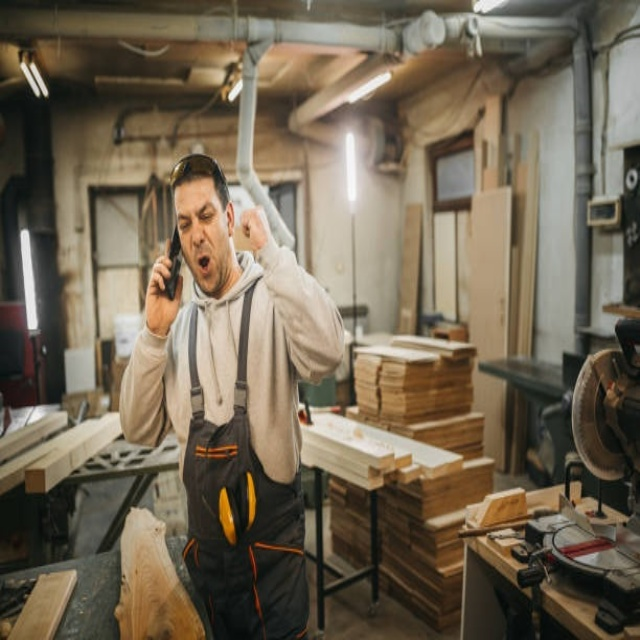Sin_gafas: (176, 198, 220, 232)
Sin_guantes: (146, 253, 186, 328), (239, 204, 274, 248)
Sin_mascara: (191, 249, 218, 284)
